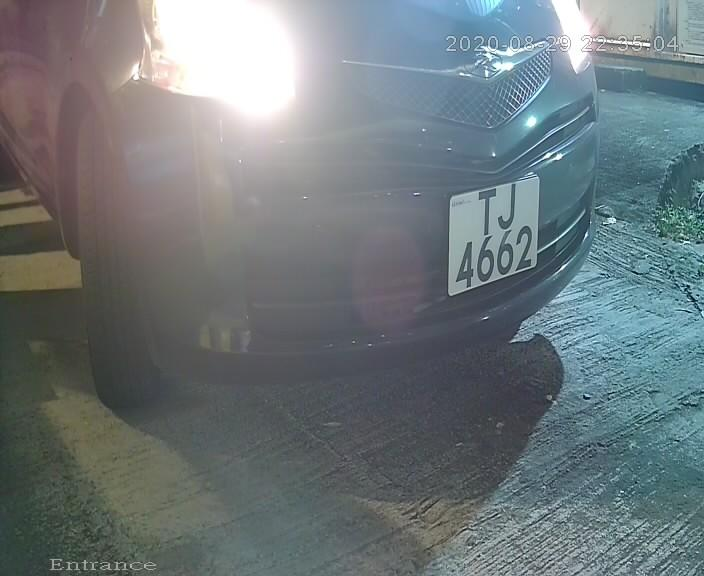License Plate: (441, 163, 541, 312)
